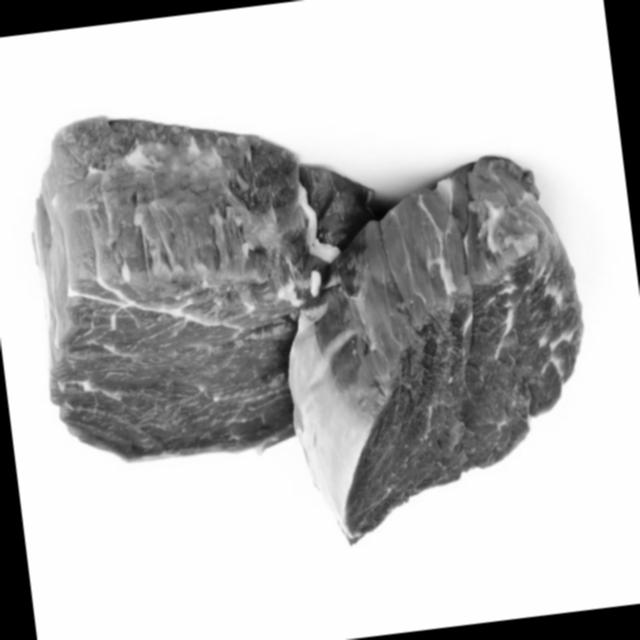beef tenderloin steak: (16, 94, 367, 495), (269, 150, 602, 566)
